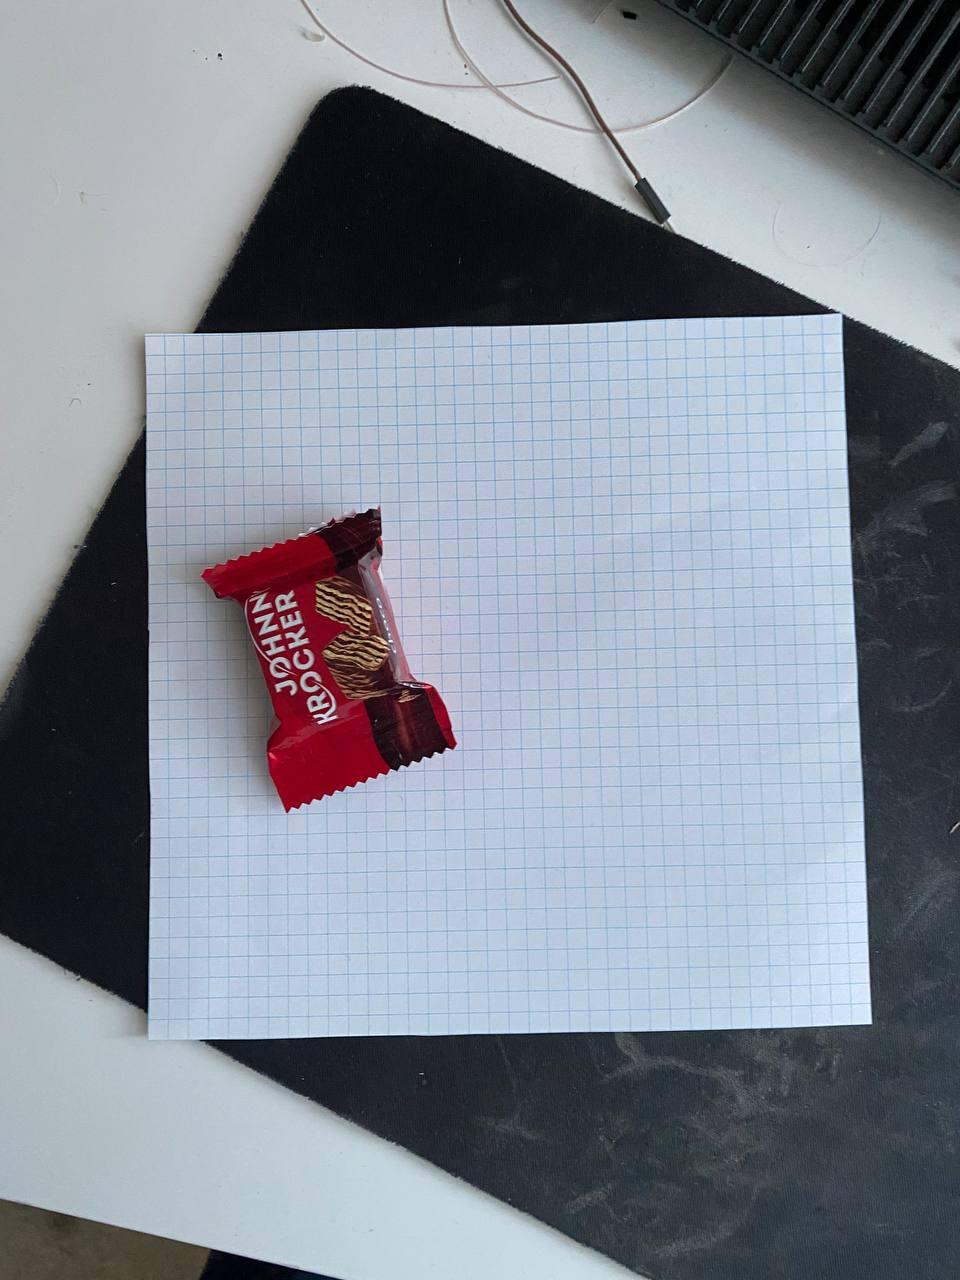grid: (130, 308, 884, 1048)
